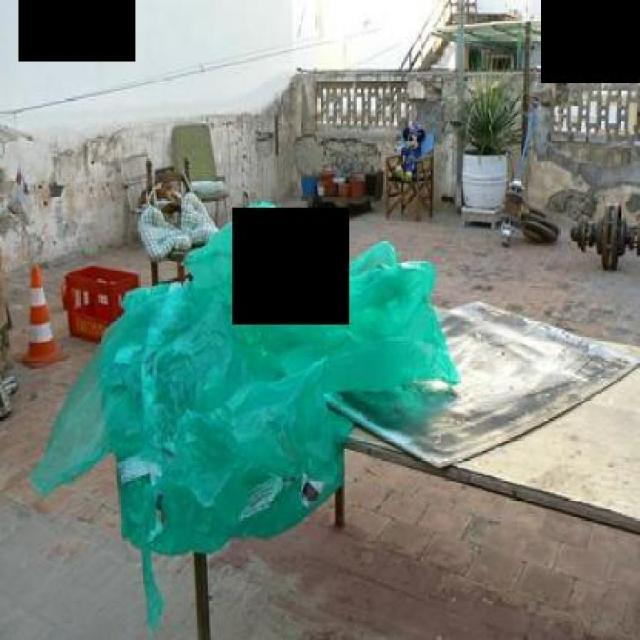plastic bag: (29, 195, 638, 576)
